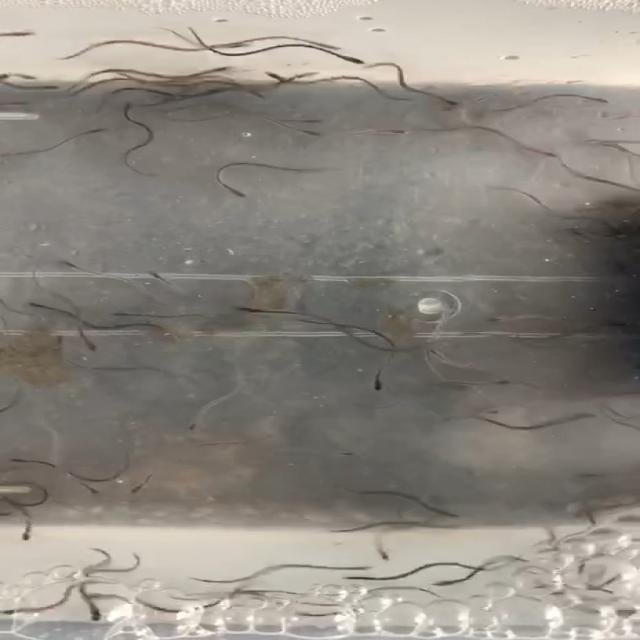active_glass_eel: (210, 295, 266, 321), (126, 265, 174, 291), (69, 123, 125, 144), (116, 479, 161, 504), (16, 298, 65, 318), (419, 506, 468, 526), (216, 184, 264, 204), (290, 39, 348, 55), (321, 50, 378, 66), (6, 98, 62, 114), (588, 95, 623, 117), (208, 39, 254, 55), (33, 84, 82, 99), (426, 573, 455, 598), (172, 416, 212, 434), (197, 65, 250, 78), (12, 530, 50, 548), (4, 68, 46, 84), (78, 337, 115, 355), (416, 93, 466, 106), (390, 125, 426, 143), (372, 553, 420, 566), (491, 376, 529, 392), (8, 456, 51, 470), (581, 136, 618, 152), (79, 608, 114, 624), (108, 307, 138, 325), (433, 102, 468, 117), (566, 412, 609, 424), (114, 100, 150, 114), (345, 562, 387, 574), (488, 313, 520, 328), (424, 346, 450, 364), (56, 260, 83, 277), (261, 71, 291, 86), (362, 379, 391, 394), (582, 518, 608, 534), (332, 451, 369, 462), (245, 90, 272, 105), (303, 69, 326, 86), (0, 602, 21, 620), (302, 127, 327, 142), (339, 574, 372, 584), (46, 334, 76, 343), (305, 116, 331, 126), (544, 150, 566, 158)
